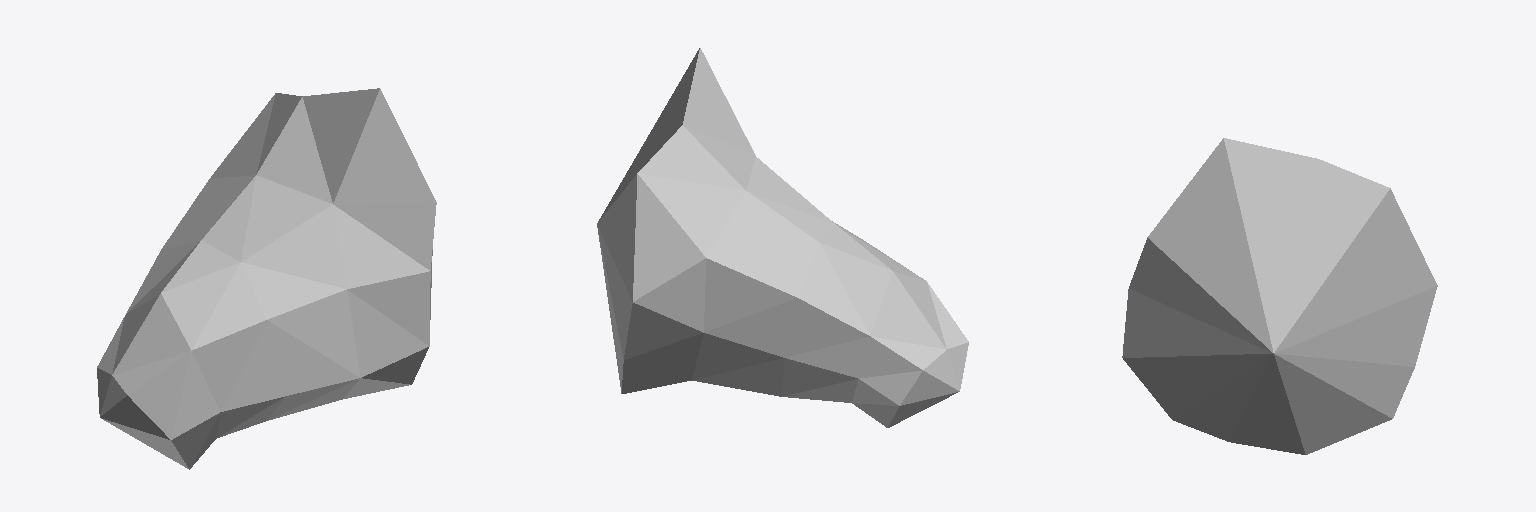
Rendered from bossRArmTop.obj.
3 renders of one model, left to right at view 1: azimuth 30°, elevation 25°; view 2: azimuth 150°, elevation 25°; view 3: azimuth 270°, elevation 25°, orthographic.
Parts seen in each view (by area): view 1: bossRArmTop; view 2: bossRArmTop; view 3: bossRArmTop.
Part boxes in pixels (bbox=[...]): bossRArmTop: bbox=[97, 88, 436, 469]; bossRArmTop: bbox=[597, 48, 968, 427]; bossRArmTop: bbox=[1122, 138, 1437, 454].
Bounding box in the file's own units: 204 × 185 × 160.